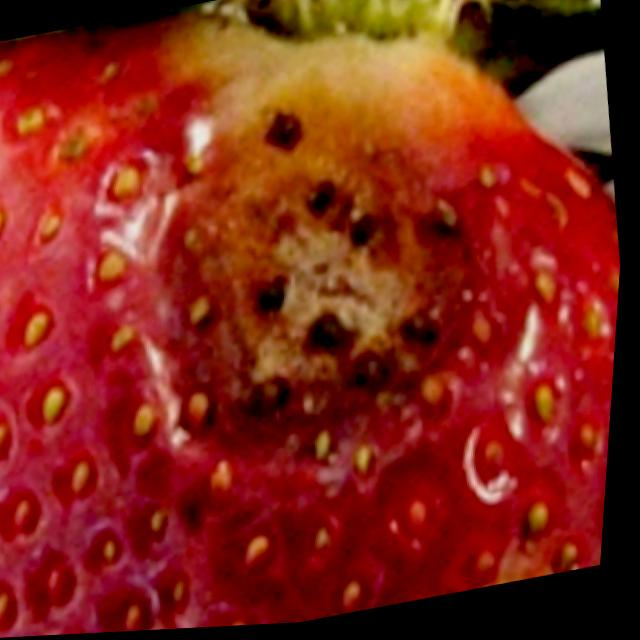Anthracnose Fruit Rot: (120, 122, 495, 468)
